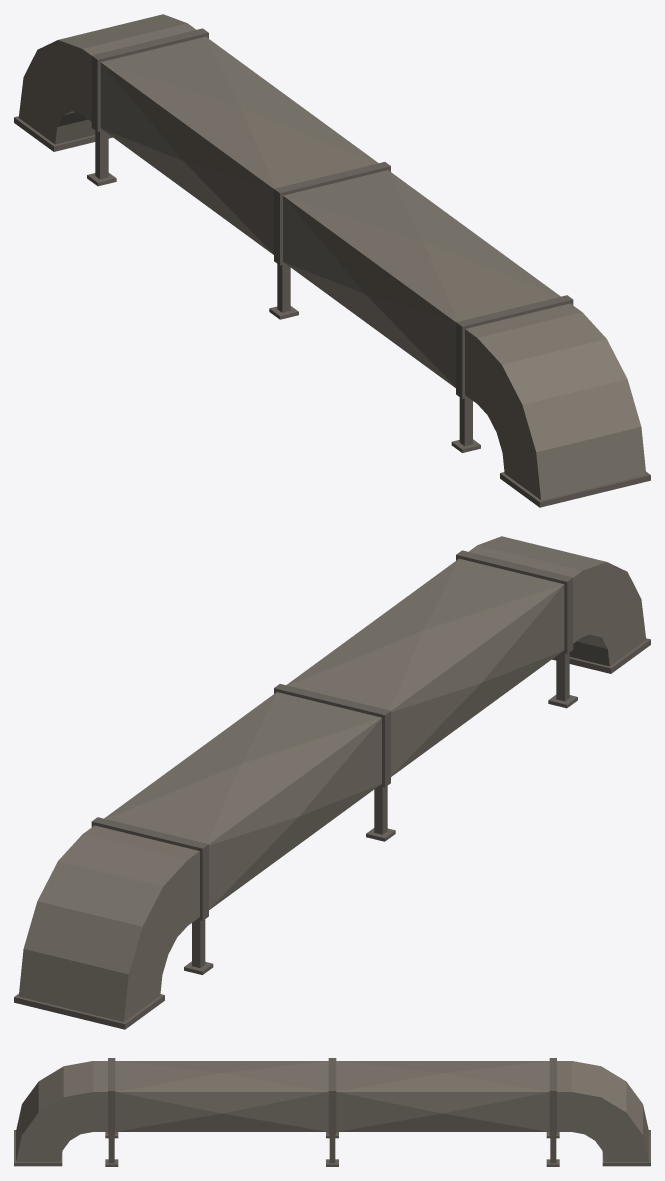
File: SM_Props_Roof_Vent_Set_03.fbx
3 renders of one model, top to bottom at view 1: azimuth 30°, elevation 25°; view 2: azimuth 150°, elevation 25°; view 3: azimuth 270°, elevation 25°, orthographic. The views are drawn at different scales.
Visible parts, largest first — view 1: SM_Props_Roof_Vent_Set_03; view 2: SM_Props_Roof_Vent_Set_03; view 3: SM_Props_Roof_Vent_Set_03.
Part boxes in pixels (x1,y1,x2,y2): SM_Props_Roof_Vent_Set_03: [14, 14, 650, 507]; SM_Props_Roof_Vent_Set_03: [14, 536, 650, 1029]; SM_Props_Roof_Vent_Set_03: [14, 1058, 650, 1166].
Bounding box in the file's own units: 110 × 115 × 866.
